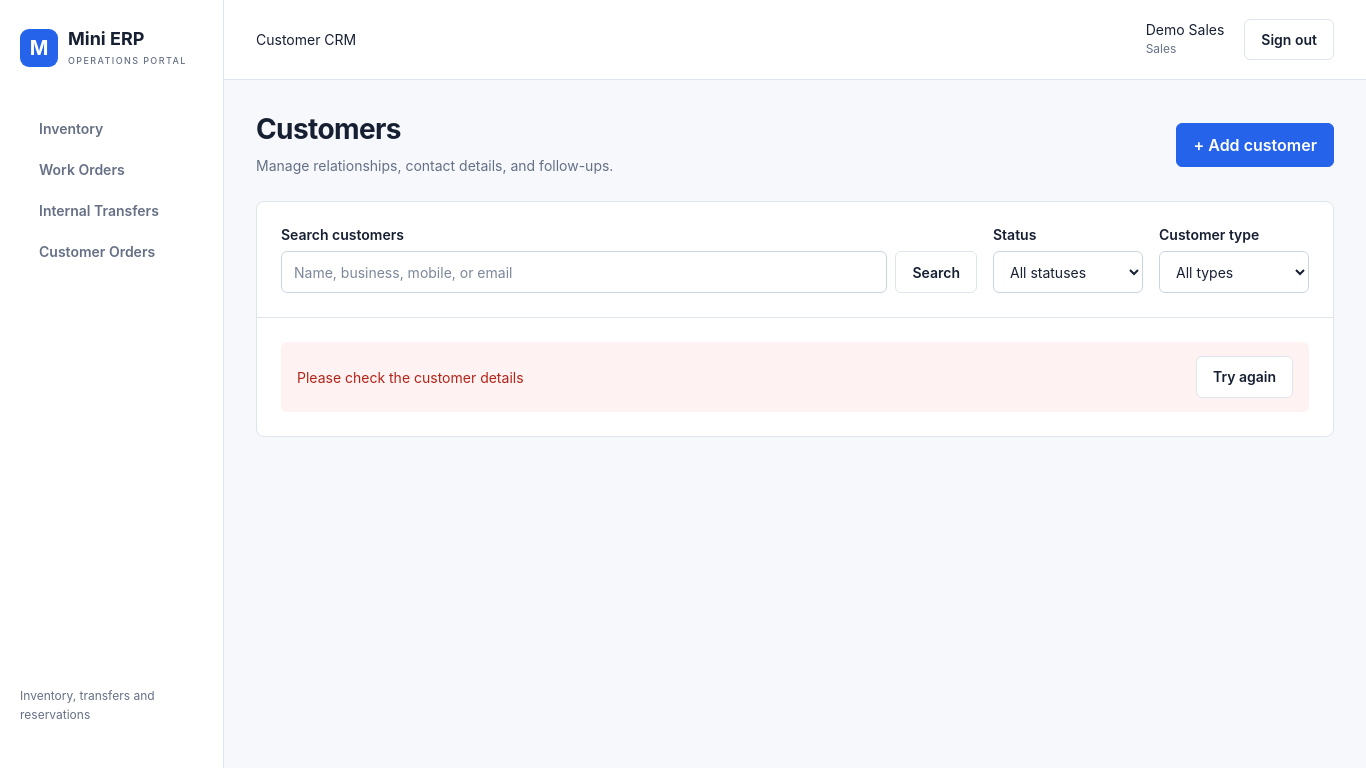
customer navigation and permissions › shows an API error and retries
This screenshot has width=1366, height=768.
Expected: the message "Please check the customer details Try again" is shown, [281, 342, 1309, 412]
Click the button "Try again".
click(1244, 377)  # box [1196, 356, 1293, 398]
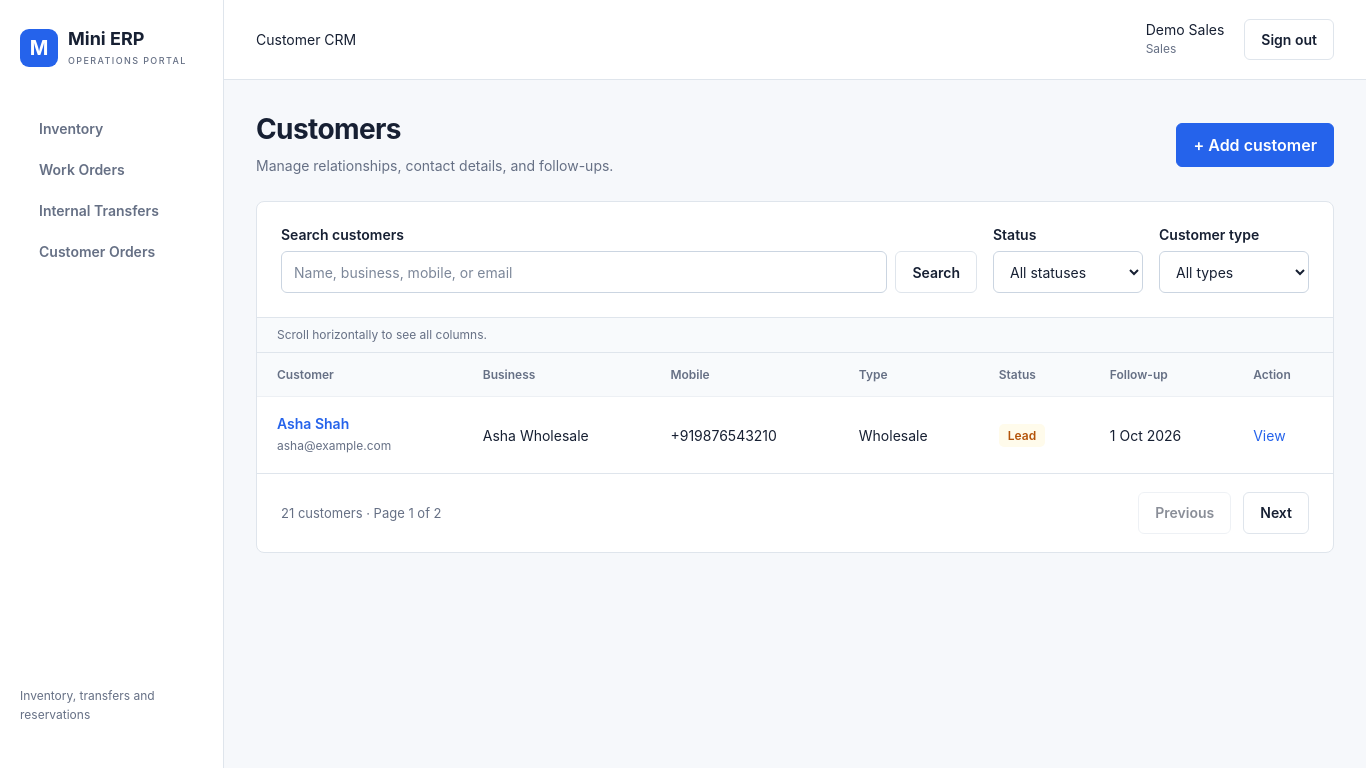
Result: the link "Asha Shah" is shown at [277, 415, 349, 432]
